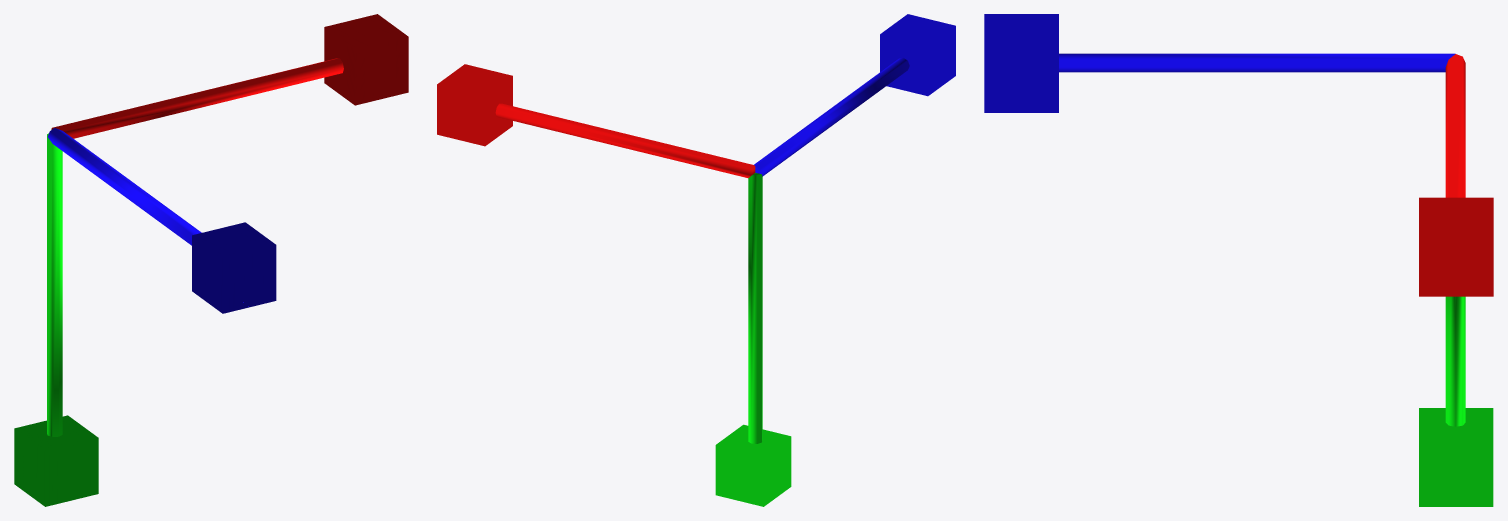
File: GizmoAxisScale.obj
3 views of the same model, side by side, from view 1: azimuth 30°, elevation 25°; view 2: azimuth 150°, elevation 25°; view 3: azimuth 270°, elevation 25° (orthographic). The views are drawn at different scales.
Visible parts, largest first — view 1: GizmoScale; view 2: GizmoScale; view 3: GizmoScale.
Boxes of the visible parts, x1,y1,x2,y2 form: GizmoScale: (14,14,408,506); GizmoScale: (437,14,955,506); GizmoScale: (984,14,1493,506).
Bounding box in the file's own units: 1.26 × 1.25 × 1.26.
